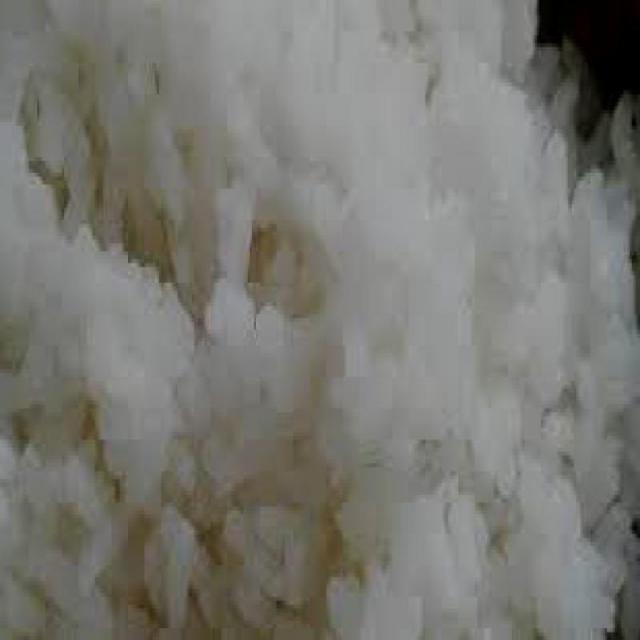rice: (1, 4, 637, 636)
